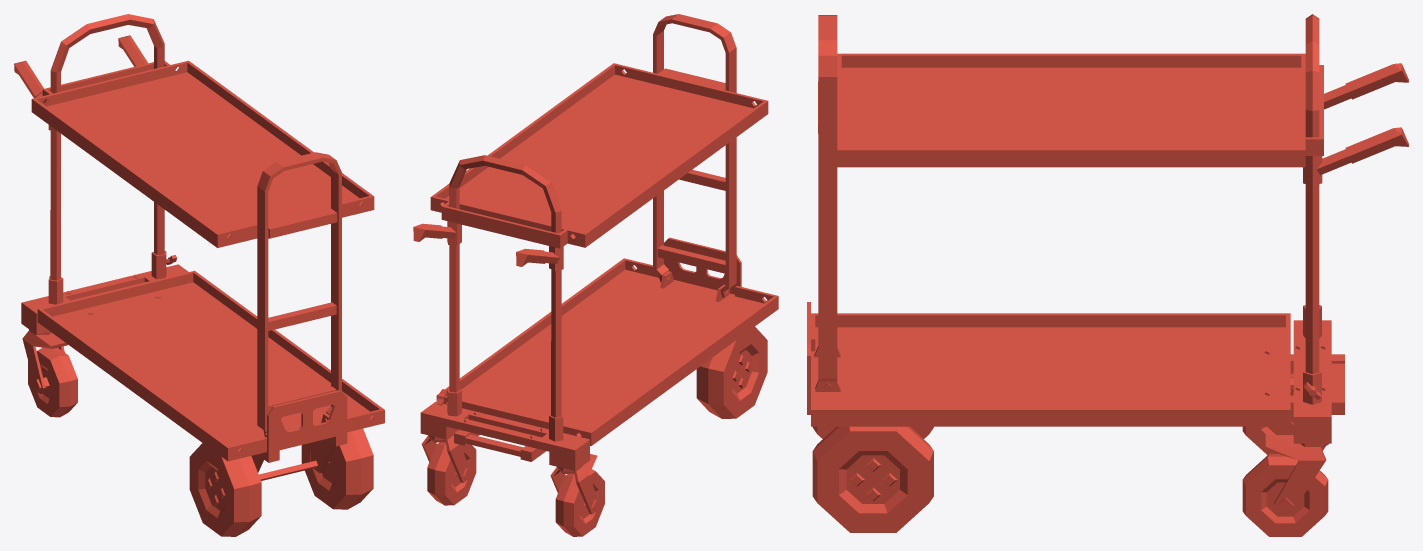
Rendered from SM_Cart_Equipment_Movie.fbx.
3 views of the same model, side by side, from view 1: azimuth 30°, elevation 25°; view 2: azimuth 150°, elevation 25°; view 3: azimuth 270°, elevation 25° (orthographic). The views are drawn at different scales.
Visible parts, largest first — view 1: SM_Cart_Equipment_Movie; view 2: SM_Cart_Equipment_Movie; view 3: SM_Cart_Equipment_Movie.
Part boxes in pixels (x1,y1,x2,y2): SM_Cart_Equipment_Movie: (14, 14, 384, 536); SM_Cart_Equipment_Movie: (413, 14, 778, 536); SM_Cart_Equipment_Movie: (807, 14, 1408, 536).
Bounding box in the file's own units: 158 × 62.56 × 135.
